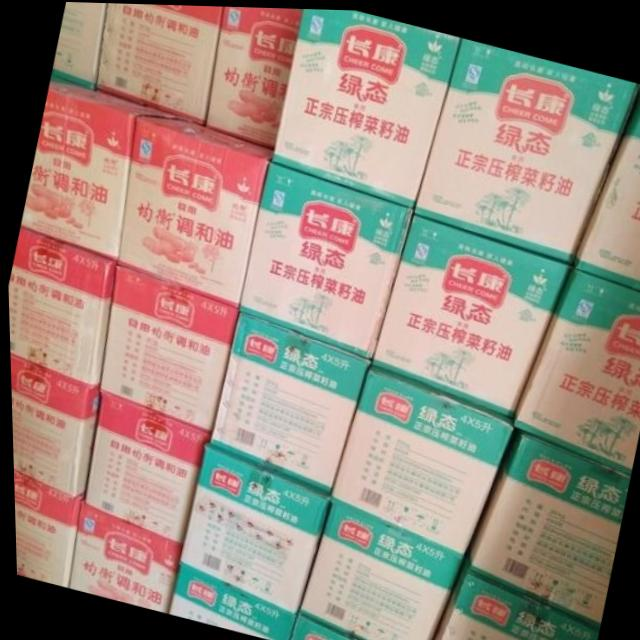box: (413, 35, 638, 259), (369, 212, 568, 412), (270, 7, 459, 204), (330, 364, 509, 555), (238, 161, 411, 357), (463, 427, 627, 620), (115, 117, 271, 306), (207, 309, 367, 491), (19, 78, 180, 258), (510, 266, 640, 470), (177, 441, 327, 611), (98, 263, 237, 429), (296, 499, 458, 640), (80, 390, 208, 543), (7, 226, 114, 384), (96, 3, 221, 122), (570, 85, 640, 287), (428, 557, 596, 640), (205, 5, 302, 146), (8, 355, 98, 496), (65, 502, 176, 611), (165, 561, 292, 640), (11, 470, 81, 586), (50, 2, 107, 88), (285, 612, 356, 640)
